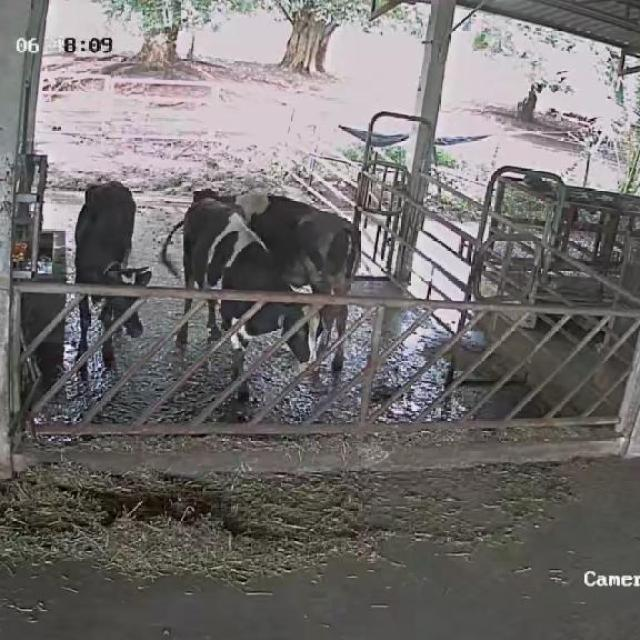standing: (153, 195, 329, 399), (190, 184, 362, 382), (78, 181, 153, 390)
